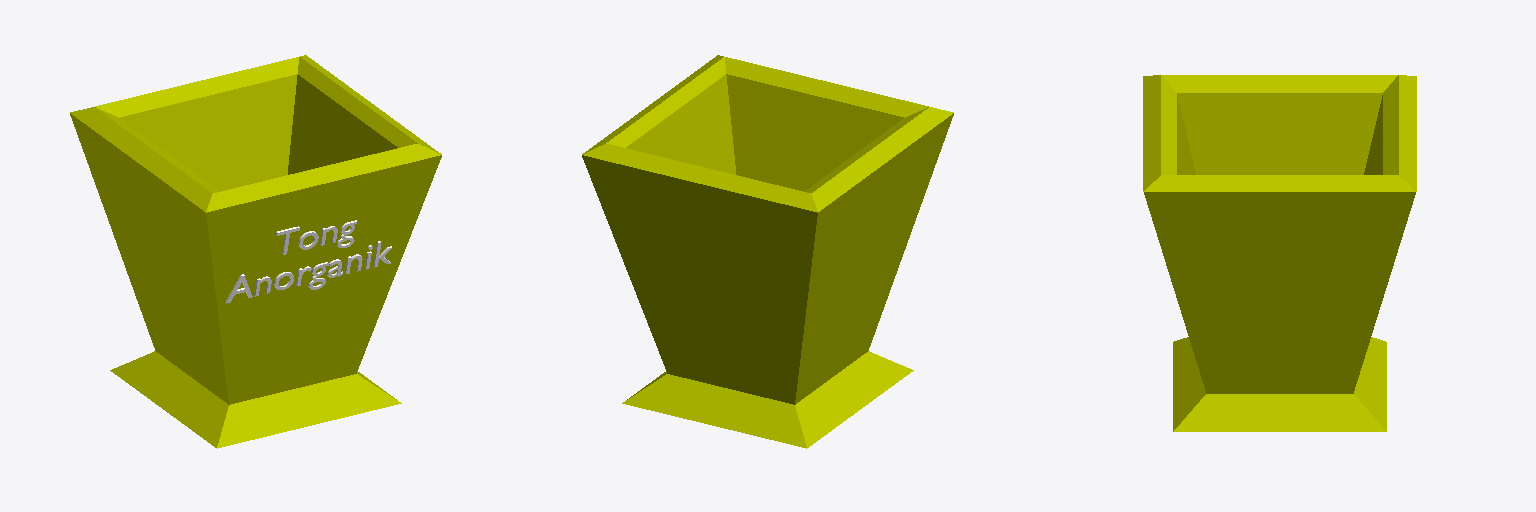
File: sampahanorganik.obj
3 views of the same model, side by side, from view 1: azimuth 30°, elevation 25°; view 2: azimuth 150°, elevation 25°; view 3: azimuth 270°, elevation 25° (orthographic).
Visible parts, largest first — view 1: Cube, Text; view 2: Cube; view 3: Cube.
Part boxes in pixels (left/top/right/bottom): Cube: left=70, top=55, right=441, bottom=448; Text: left=226, top=220, right=391, bottom=303; Cube: left=582, top=55, right=953, bottom=448; Cube: left=1143, top=75, right=1416, bottom=431.
Size of the model in its own units: 3 by 3.17 by 3.